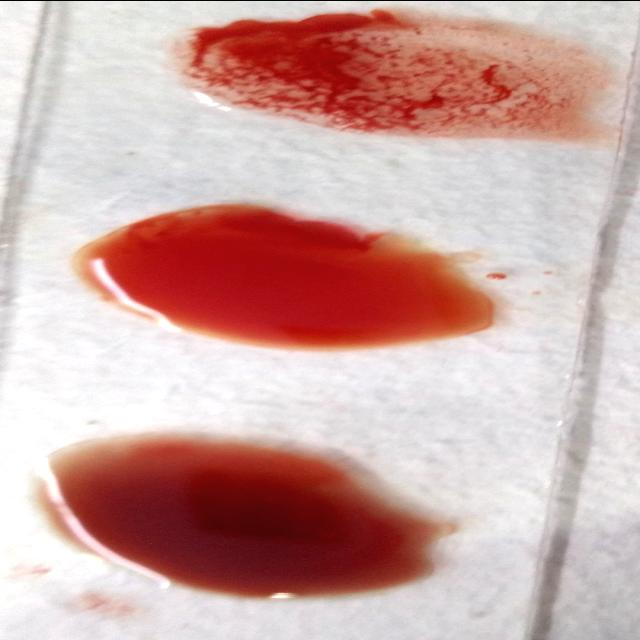D: (193, 18, 597, 136)
